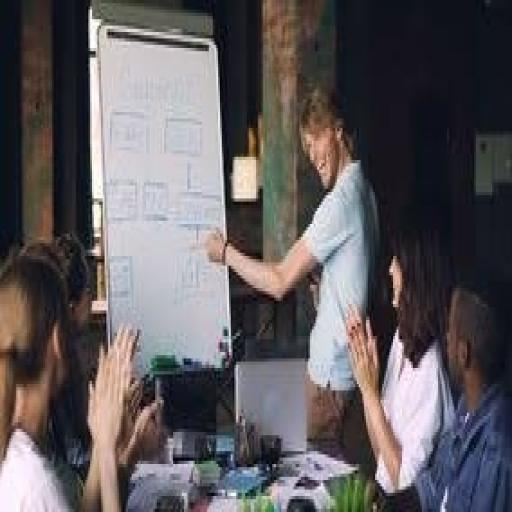clapping: (343, 208, 456, 509), (413, 278, 510, 509)
